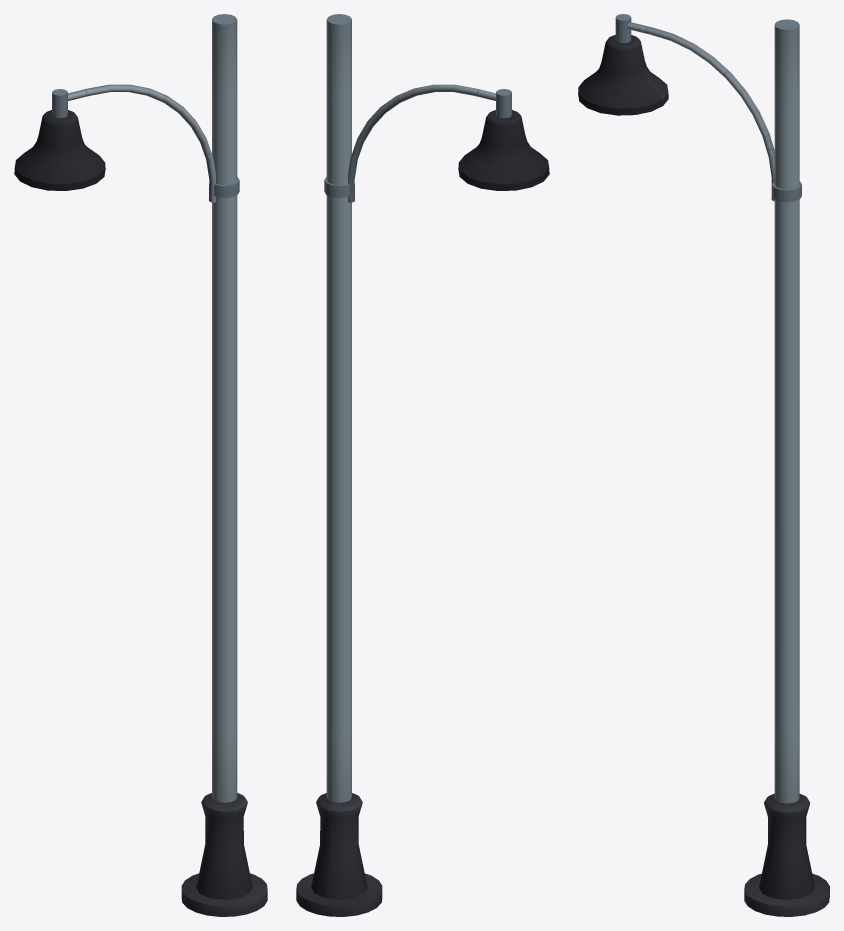
File: Street_light1.fbx
The picture shows the model from 3 angles, left to right: view 1: azimuth 30°, elevation 25°; view 2: azimuth 150°, elevation 25°; view 3: azimuth 330°, elevation 25°; orthographic projection.
Visible parts, largest first — view 1: polySurface142; view 2: polySurface142; view 3: polySurface142.
Part boxes in pixels (x1,y1,x2,y2): polySurface142: (14, 14, 267, 916); polySurface142: (296, 14, 549, 916); polySurface142: (578, 14, 829, 916).
Size of the model in its own units: 185 by 643 by 61.05.
